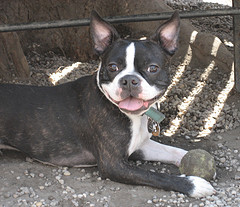tennis ball: (178, 147, 217, 186)
